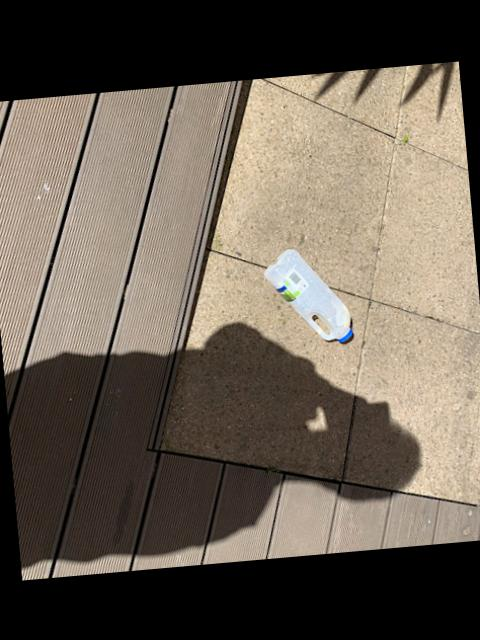plastic: (266, 249, 354, 343)
